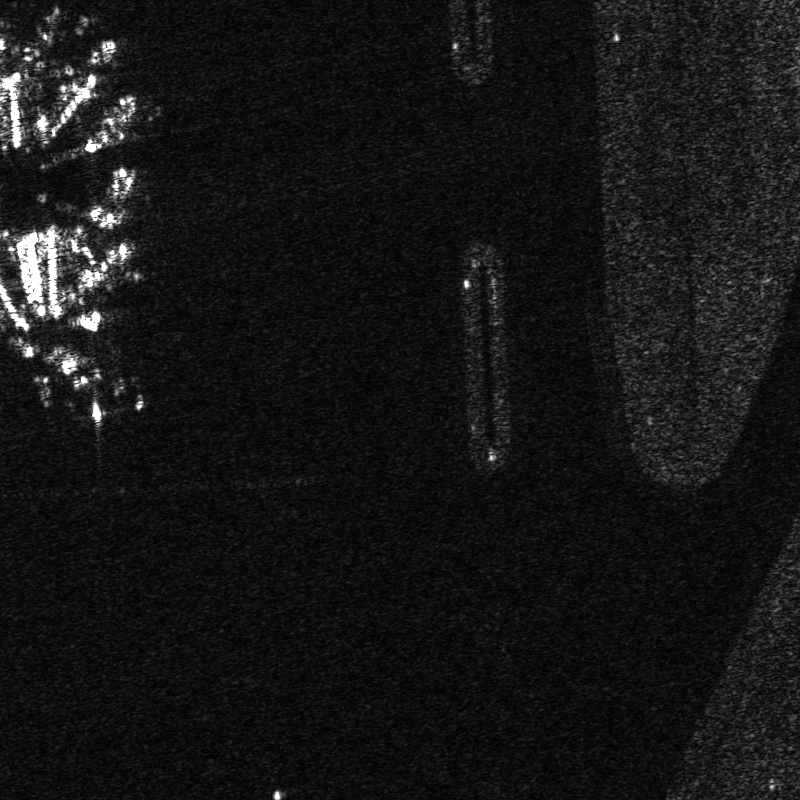Boeing737: (30, 338, 118, 435)
